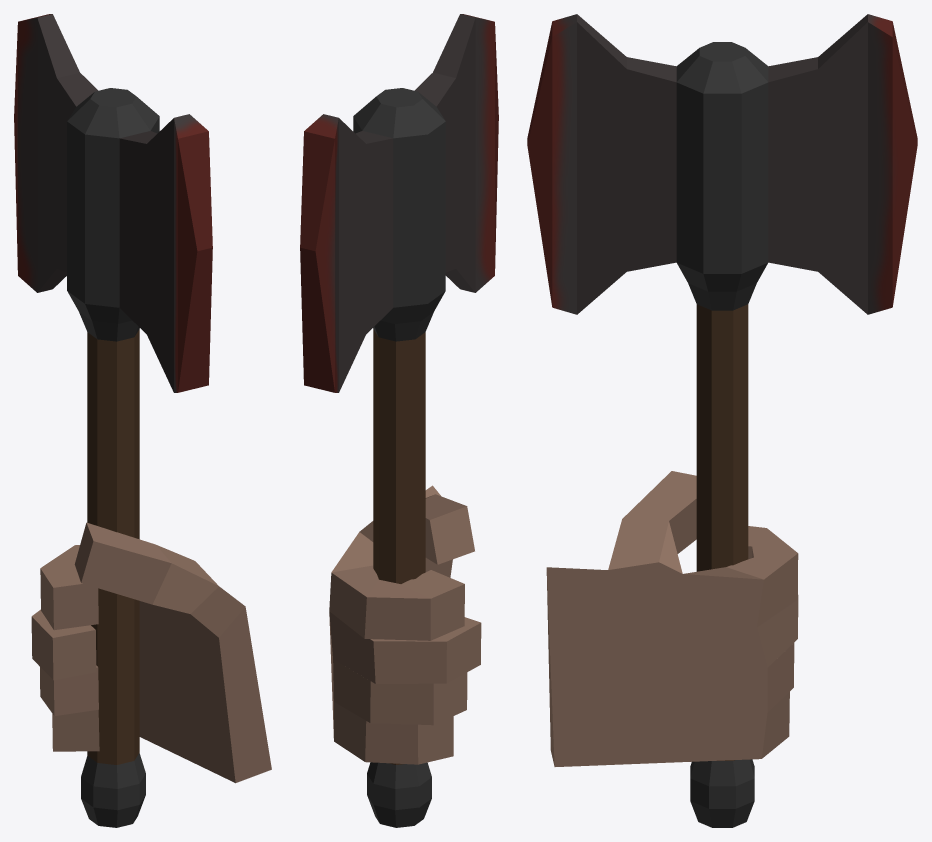
The model's file is org.fbx.
3 renders of one model, left to right at view 1: azimuth 30°, elevation 25°; view 2: azimuth 150°, elevation 25°; view 3: azimuth 270°, elevation 25°, orthographic. The views are drawn at different scales.
Parts seen in each view (by area): view 1: Cube, Cube.001; view 2: Cube, Cube.001; view 3: Cube, Cube.001.
Part boxes in pixels (x1,y1,x2,y2): Cube: (14,14,212,827); Cube.001: (31,522,271,783); Cube: (300,14,498,827); Cube.001: (329,485,481,764); Cube: (527,14,917,827); Cube.001: (546,471,798,766).
Bounding box in the file's own units: 3.73 × 17.75 × 7.85.
